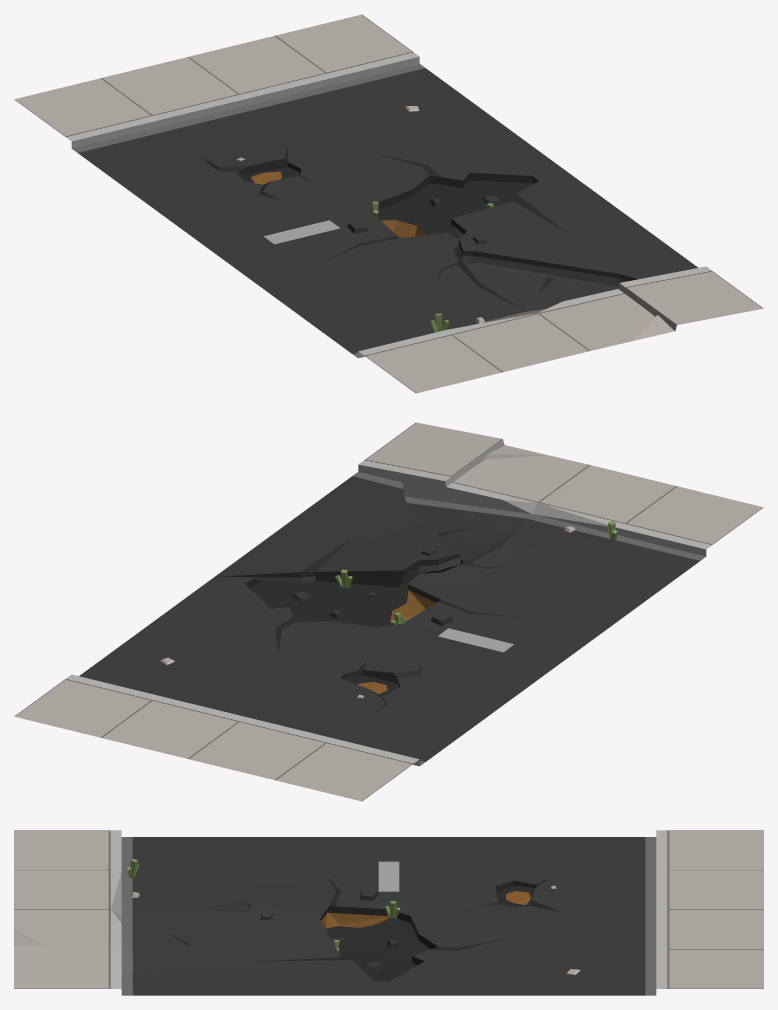
File: SA_Env_RoadStraight_Damaged_02.gltf
The picture shows the model from 3 angles, top to bottom: view 1: azimuth 30°, elevation 25°; view 2: azimuth 150°, elevation 25°; view 3: azimuth 270°, elevation 25°; orthographic projection. The views are drawn at different scales.
Visible parts, largest first — view 1: SA_Env_RoadStraight_Damaged_02; view 2: SA_Env_RoadStraight_Damaged_02; view 3: SA_Env_RoadStraight_Damaged_02.
Boxes of the visible parts, x1,y1,x2,y2 form: SA_Env_RoadStraight_Damaged_02: (14, 14, 763, 393); SA_Env_RoadStraight_Damaged_02: (14, 422, 763, 801); SA_Env_RoadStraight_Damaged_02: (14, 830, 763, 995).
Size of the model in its own units: 10 by 0.9511 by 20.
Materials: 1 (1 with a texture image).
